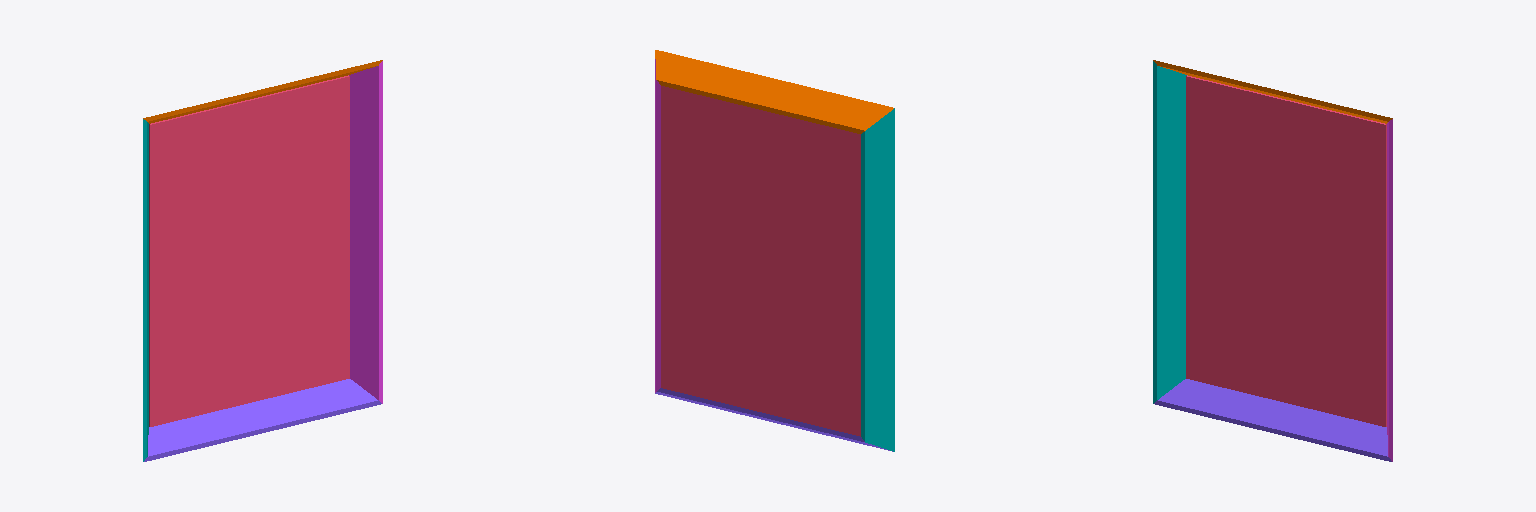
Rendered from tray3.obj.
3 renders of one model, left to right at view 1: azimuth 30°, elevation 25°; view 2: azimuth 150°, elevation 25°; view 3: azimuth 330°, elevation 25°, orthographic.
Parts seen in each view (by area): view 1: Mesh3, Mesh5, Mesh6, Mesh7, Mesh4; view 2: Mesh3, Mesh7, Mesh4, Mesh5, Mesh6; view 3: Mesh3, Mesh7, Mesh6, Mesh5, Mesh4.
Boxes of the visible parts, <box> form: Mesh3: <box>149,75,349,426</box>; Mesh5: <box>349,61,382,403</box>; Mesh6: <box>144,379,381,461</box>; Mesh7: <box>143,119,148,461</box>; Mesh4: <box>143,60,382,123</box>; Mesh3: <box>661,86,860,436</box>; Mesh7: <box>861,108,894,451</box>; Mesh4: <box>655,50,893,133</box>; Mesh5: <box>655,59,660,392</box>; Mesh6: <box>655,388,892,451</box>; Mesh3: <box>1186,75,1386,426</box>; Mesh7: <box>1153,61,1186,403</box>; Mesh6: <box>1154,379,1391,461</box>; Mesh5: <box>1387,119,1392,461</box>; Mesh4: <box>1153,60,1392,123</box>.
Bounding box in the file's own units: 540 × 740 × 55.